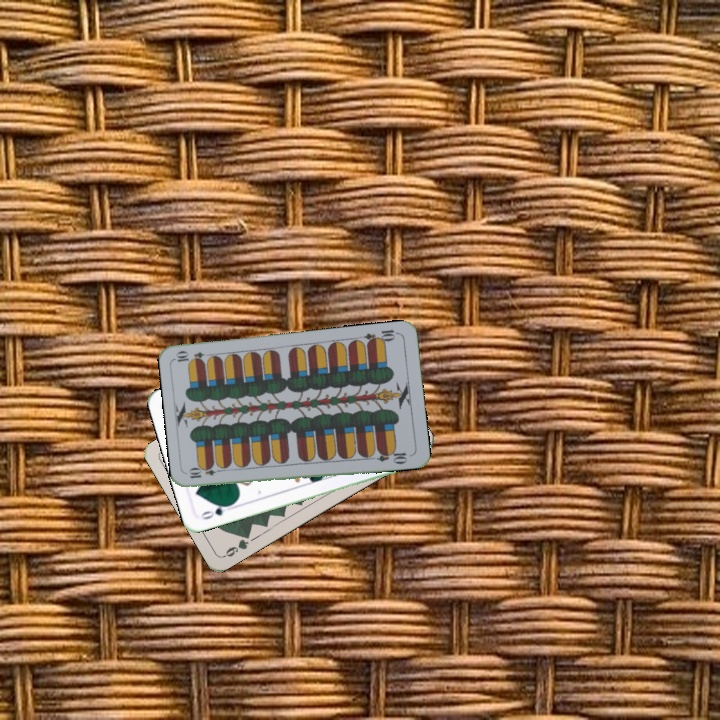E10: (360, 325, 401, 347), (185, 464, 226, 481)
G9: (220, 528, 253, 560)
GO: (196, 500, 235, 522)
